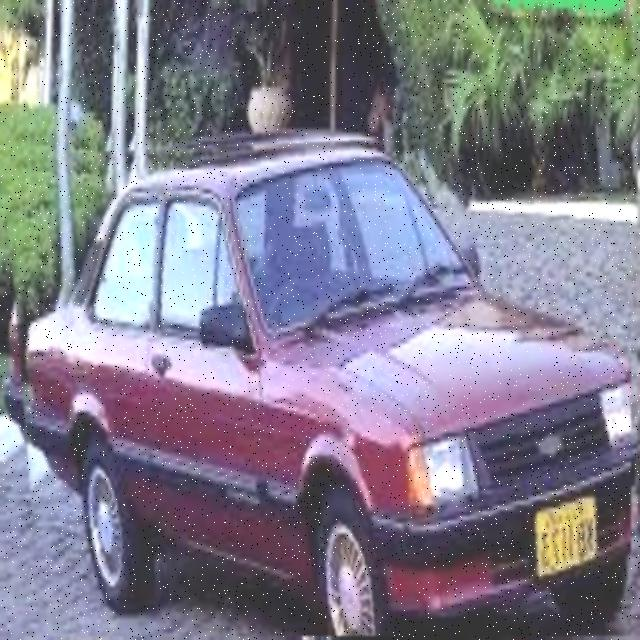car: (4, 129, 632, 637)
